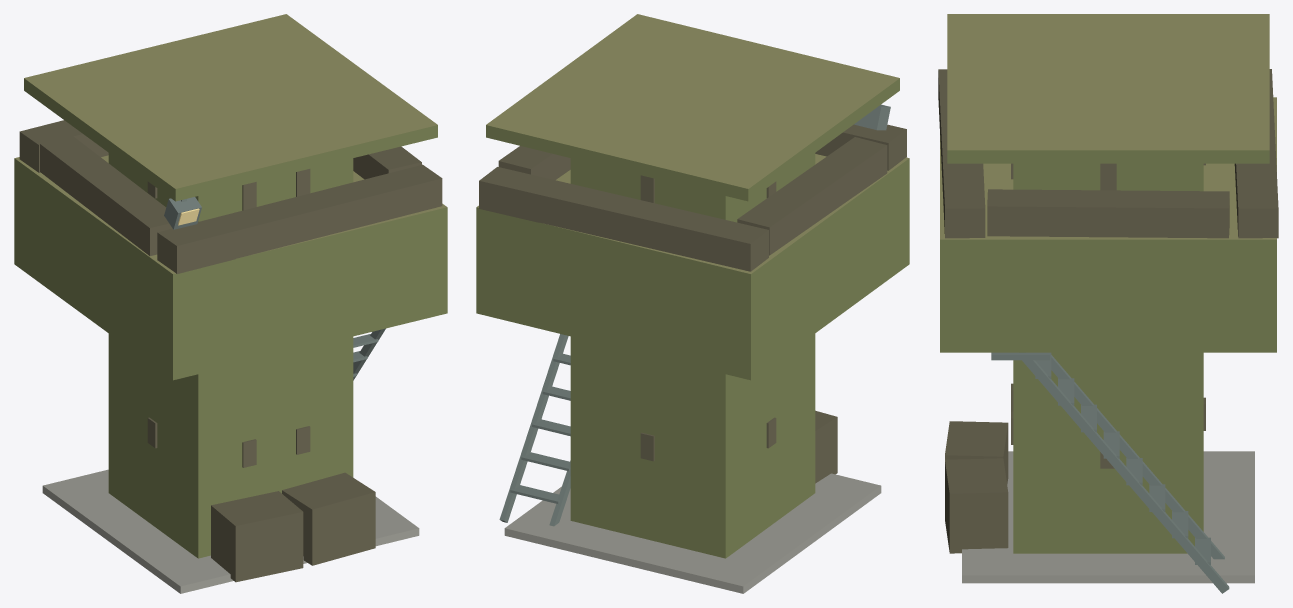
File: SM_TorretaVigia_v2_LOD0.fbx
3 views of the same model, side by side, from view 1: azimuth 30°, elevation 25°; view 2: azimuth 150°, elevation 25°; view 3: azimuth 270°, elevation 25° (orthographic). The views are drawn at different scales.
Visible parts, largest first — view 1: SM_torreta_vigia_v2_LOD0; view 2: SM_torreta_vigia_v2_LOD0; view 3: SM_torreta_vigia_v2_LOD0.
Part boxes in pixels (left/top/right/bottom): SM_torreta_vigia_v2_LOD0: left=14, top=14, right=447, bottom=593; SM_torreta_vigia_v2_LOD0: left=476, top=14, right=909, bottom=593; SM_torreta_vigia_v2_LOD0: left=938, top=14, right=1278, bottom=593.
Bounding box in the file's own units: 4.66 × 6.64 × 4.64.
